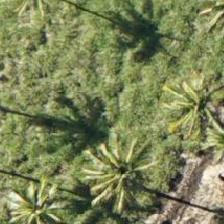coconut_tree: (39, 119, 129, 209), (169, 106, 223, 196), (0, 158, 66, 223)
